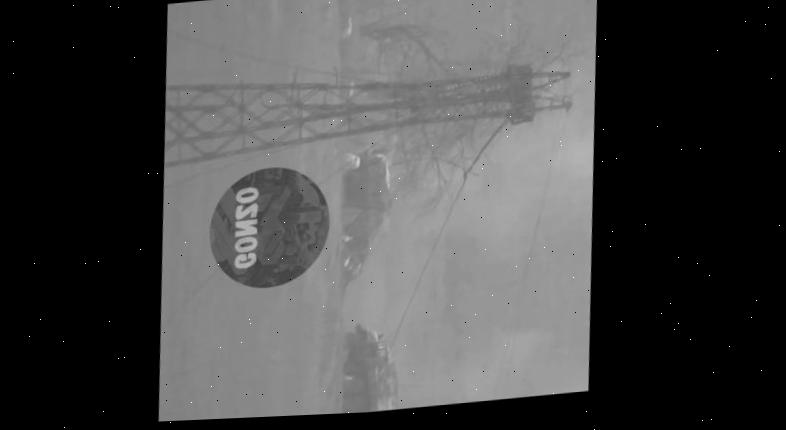truck: (329, 144, 400, 264), (332, 319, 405, 414)
